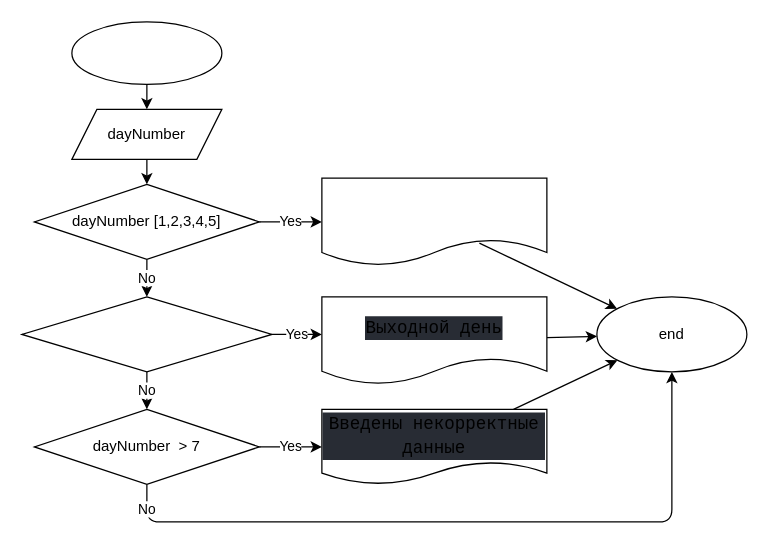
This 769x554 diagram has some shape labels left out. Here are the shapes that lost their labels. From the top down, the box of each, then its label:
(71, 21, 222, 84): start
(321, 177, 547, 266): Будний день
(21, 296, 272, 372): dayNumber [6,7]
